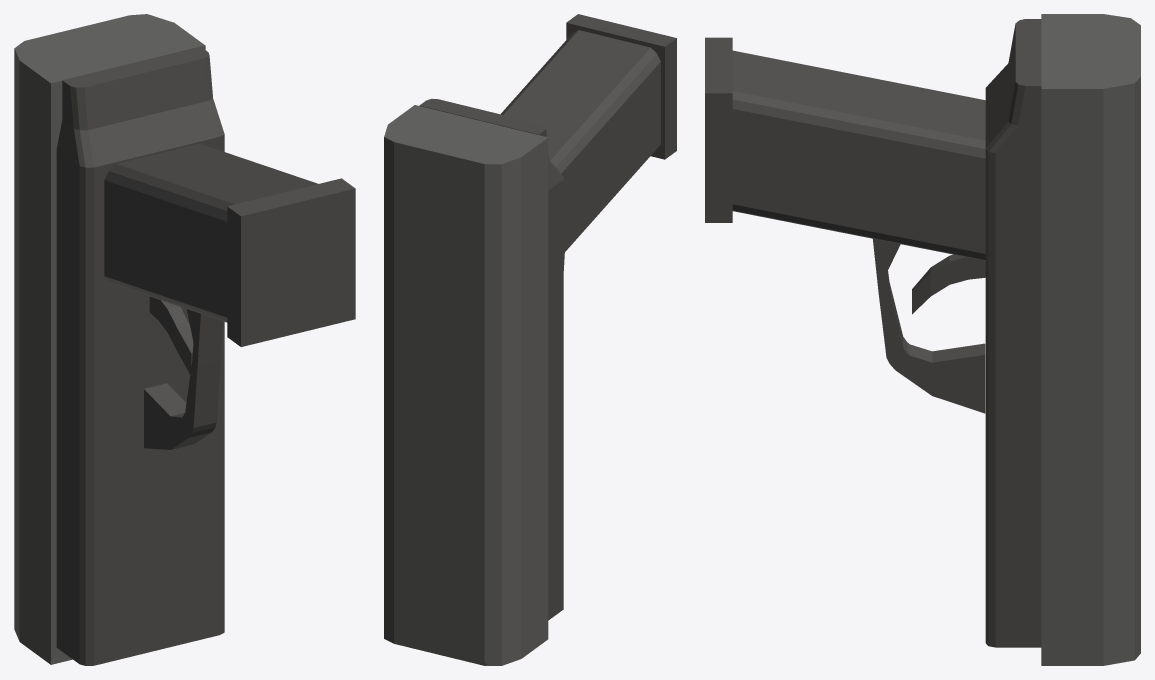
File: HandGun.fbx
3 views of the same model, side by side, from view 1: azimuth 30°, elevation 25°; view 2: azimuth 150°, elevation 25°; view 3: azimuth 270°, elevation 25° (orthographic). The views are drawn at different scales.
Visible parts, largest first — view 1: GUn; view 2: GUn; view 3: GUn.
Part boxes in pixels (x1=…): GUn: x1=14, y1=14, x2=355, y2=665; GUn: x1=384, y1=14, x2=676, y2=665; GUn: x1=705, y1=14, x2=1140, y2=665.
Size of the model in its own units: 0.0502 by 0.1825 by 0.1234.
